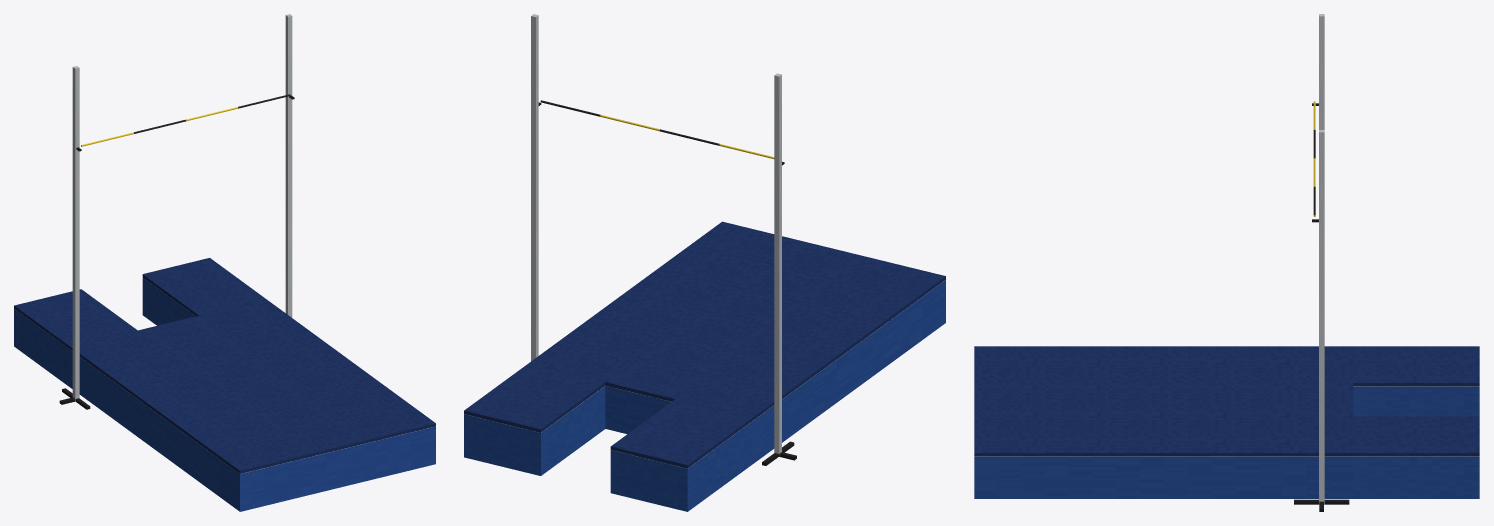
File: pole_vault.obj
The picture shows the model from 3 angles, left to right: view 1: azimuth 30°, elevation 25°; view 2: azimuth 150°, elevation 25°; view 3: azimuth 270°, elevation 25°; orthographic projection. The views are drawn at different scales.
Parts seen in each view (by area): view 1: pole_vault; view 2: pole_vault; view 3: pole_vault.
Boxes of the visible parts, left/top/right/bottom form: pole_vault: left=14, top=14, right=435, bottom=511; pole_vault: left=464, top=14, right=945, bottom=511; pole_vault: left=974, top=14, right=1479, bottom=511.
Bounding box in the file's own units: 4.97 × 6.5 × 8.
